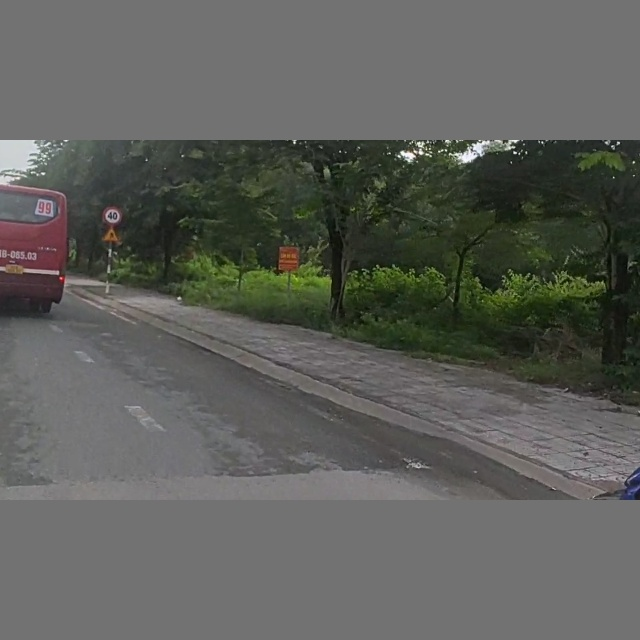P.127*40: (101, 204, 125, 226)
W.224: (101, 226, 122, 243)
